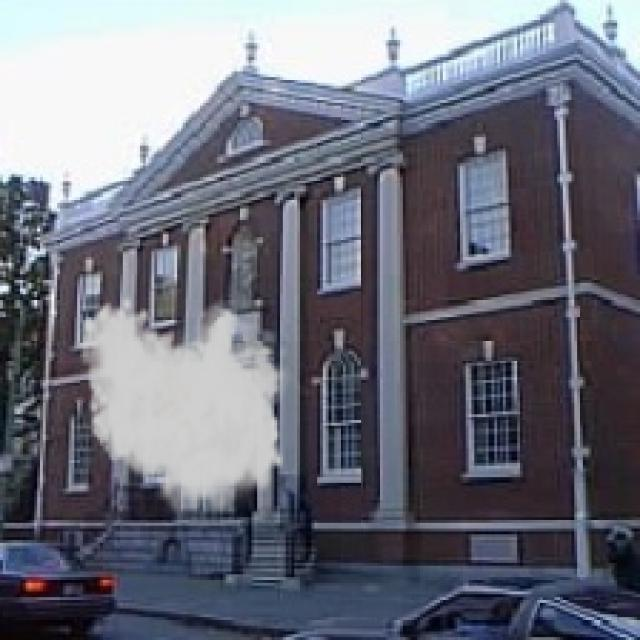Smoke: (77, 294, 297, 523)
